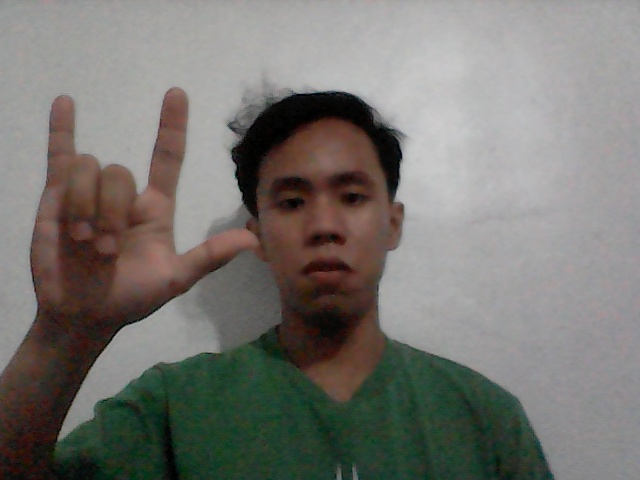I Love You: (4, 72, 264, 346)
